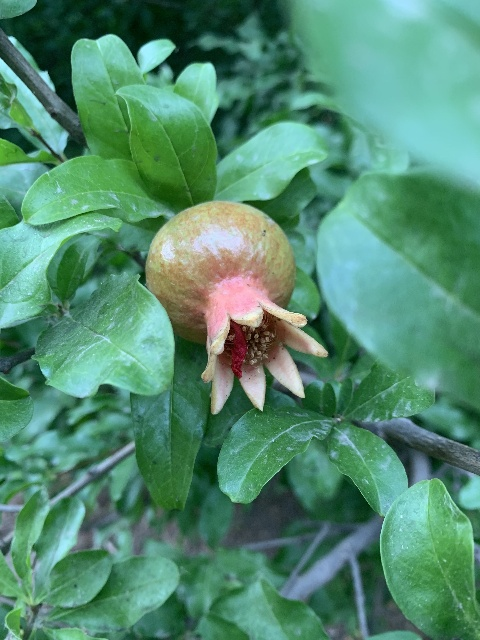early-fruit: (144, 200, 329, 414)
